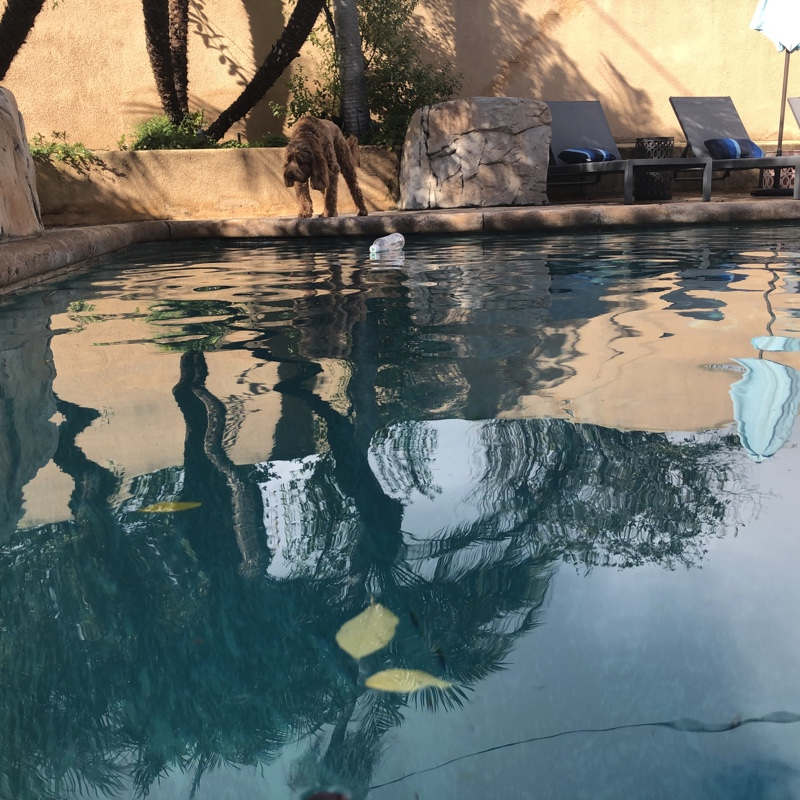Plastic Bottle: (369, 233, 406, 256)
